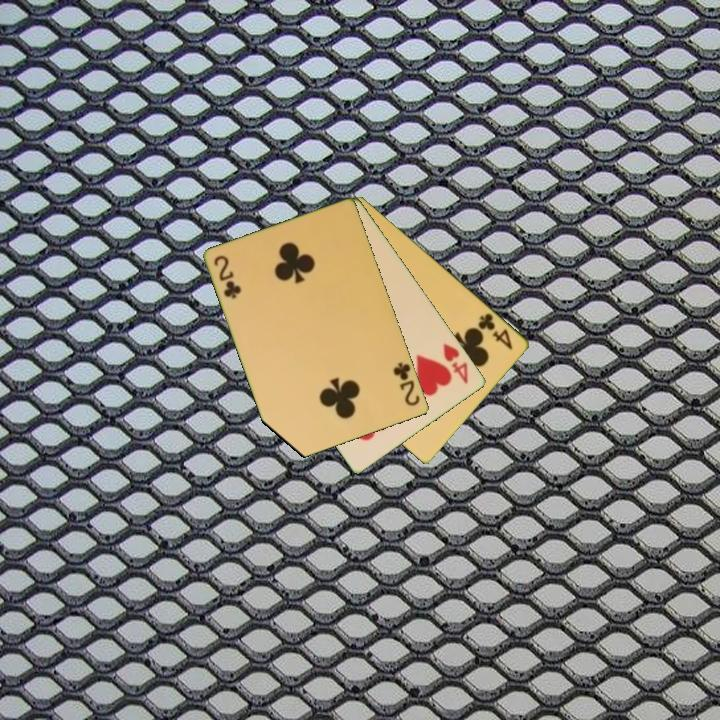2c: (210, 252, 244, 302), (390, 359, 423, 409)
4c: (475, 309, 516, 353)
4h: (440, 340, 472, 387)
